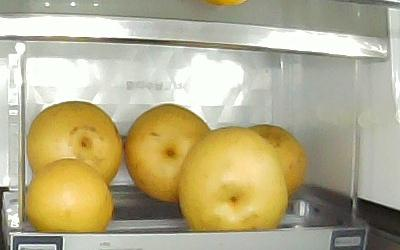pear: (179, 127, 288, 232), (125, 103, 213, 202), (27, 101, 121, 185), (25, 159, 114, 234), (247, 125, 308, 195)
